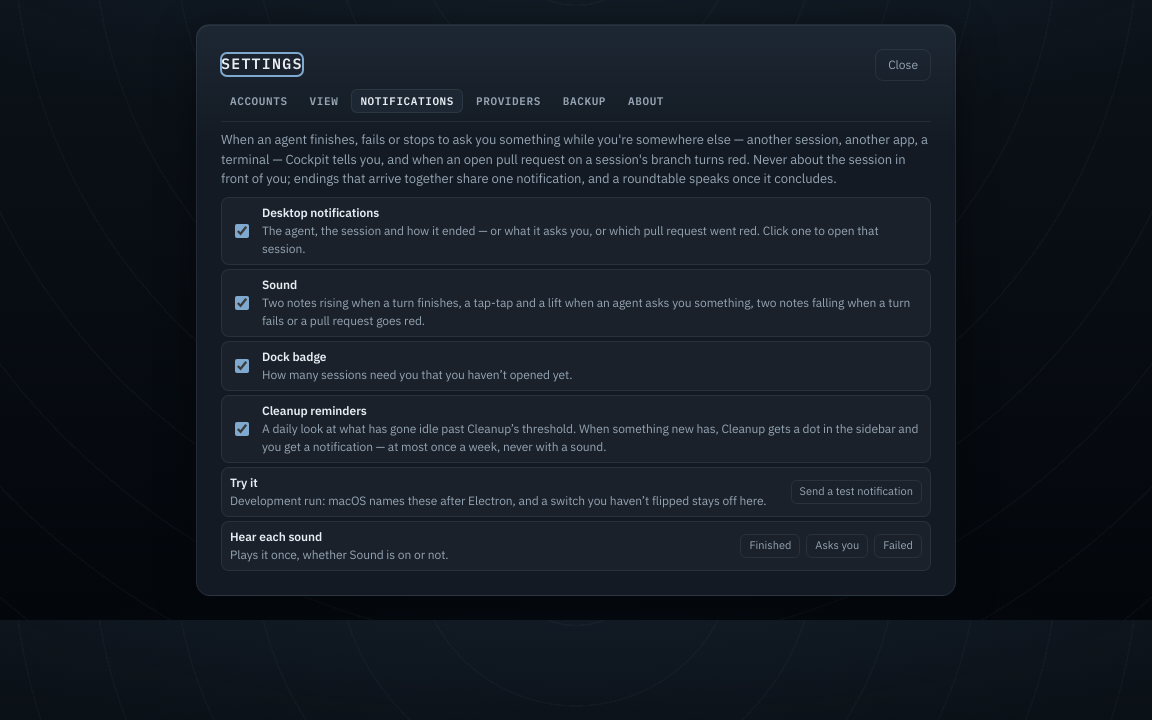
it: Settings notifications › says on screen, not only to a screen reader, why a sound stayed silent
Expected: the list item "Hear each sound" shows "Plays it once, whether Sound is on or not.", [230,546,449,562]
Step 1. Click the button "Finished" → (770, 546), box [740,534,800,558]
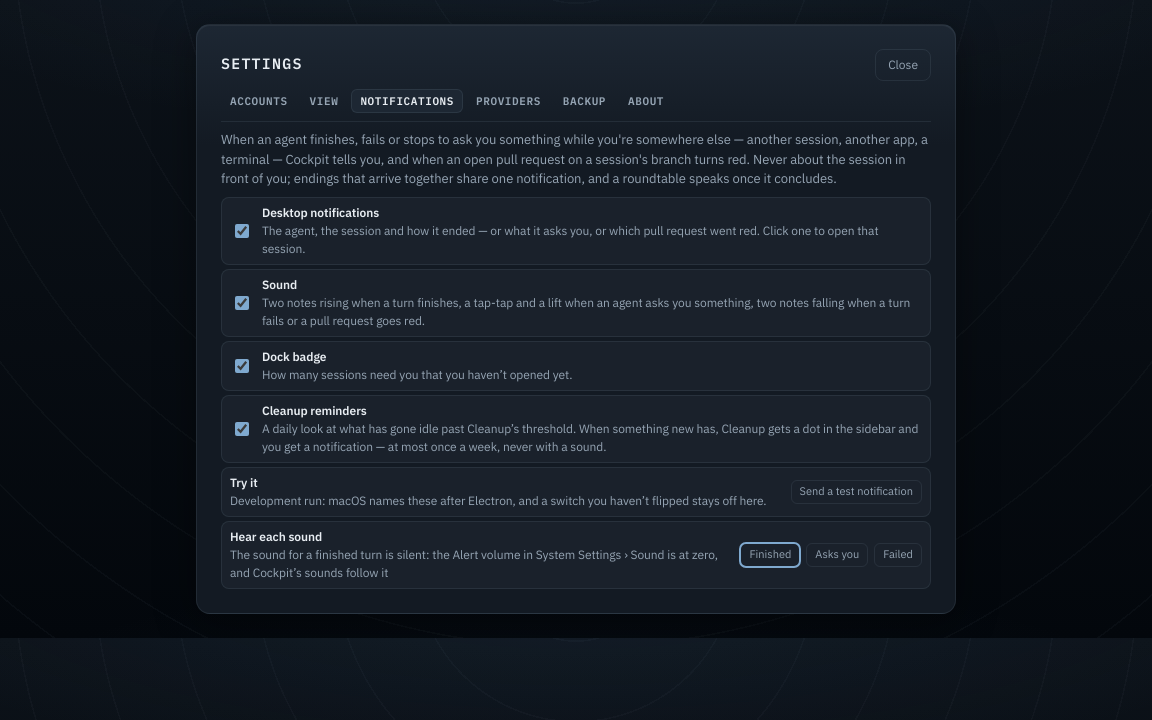
Now the list item "Hear each sound" shows "The sound for a finished turn is silent", box [230,546,718,580]
// a sound that played needs no words: the row goes back to saying what the keys do
Step 2. Click the button "Asks you" → (837, 554), box [806,542,868,566]
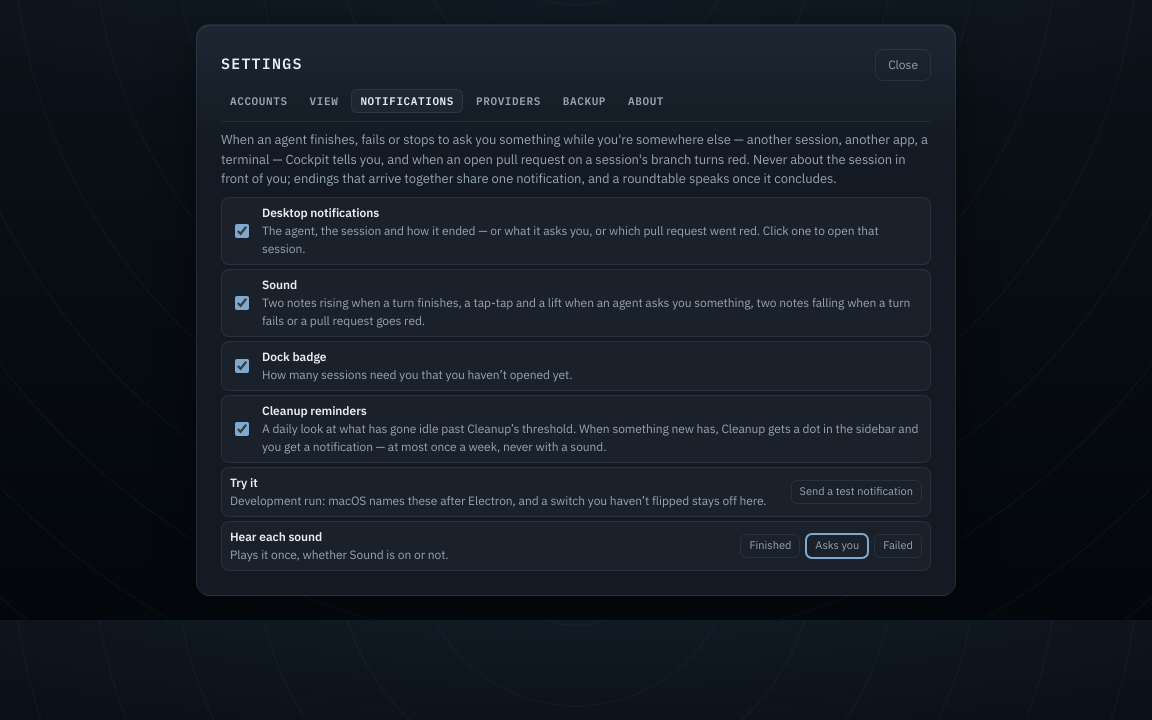
Now the list item "Hear each sound" shows "Plays it once, whether Sound is on or not.", box [230,546,449,562]
